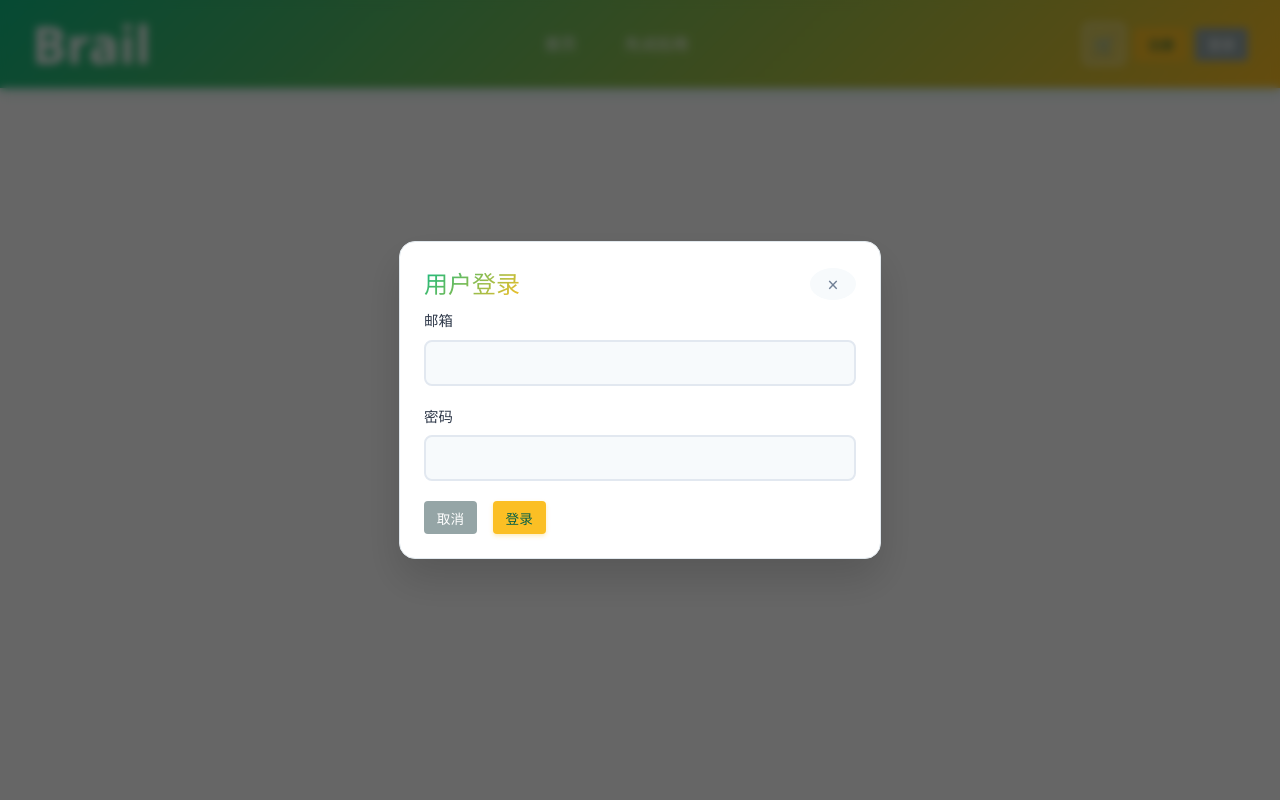
Scenario: Header.vue 注册功能单元测试 › 登录功能测试 › 登录时应该显示加载状态
Type "test@example.com" into the field with id "loginEmail". click: (640, 363)
box: 424,340 -> 856,386
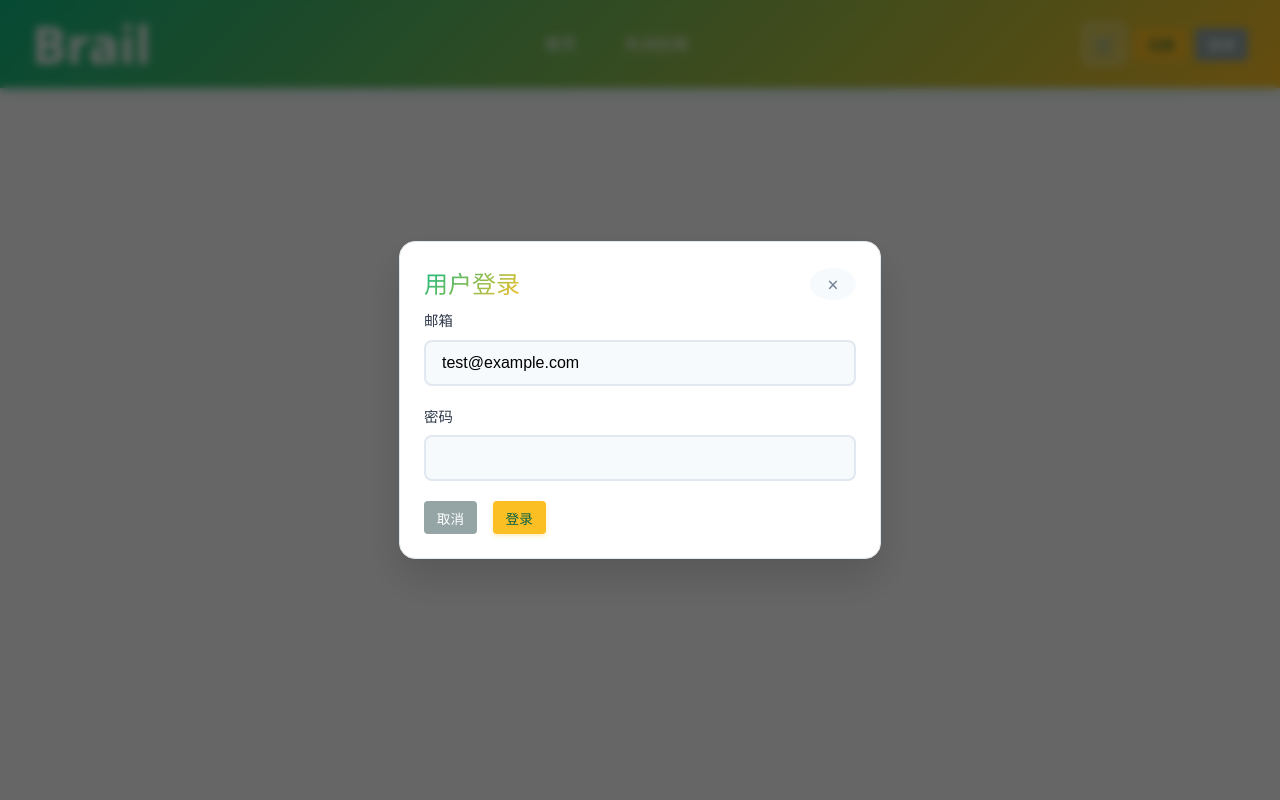
Type "password123" into the password field with id "loginPassword". click: (640, 458)
box: 424,435 -> 856,481
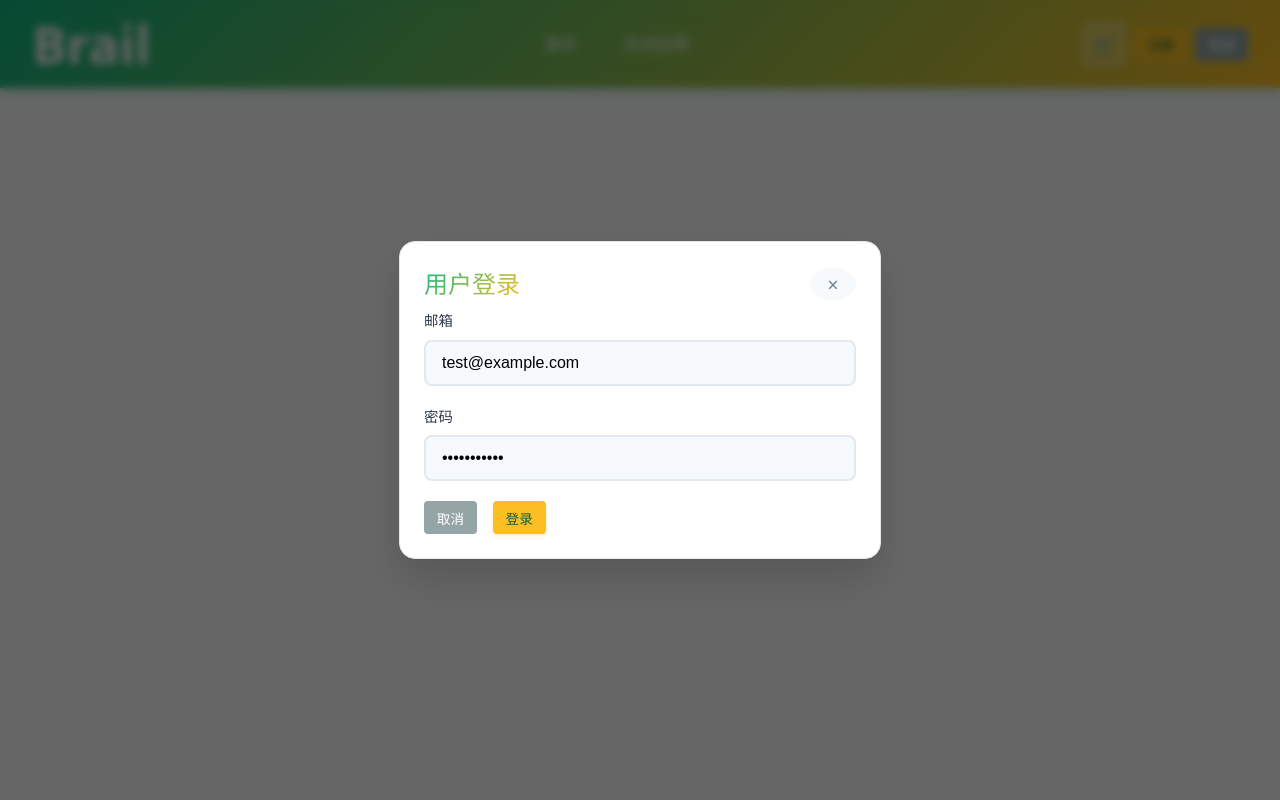
Submit the form with class "login-form", box 400,310 -> 880,558
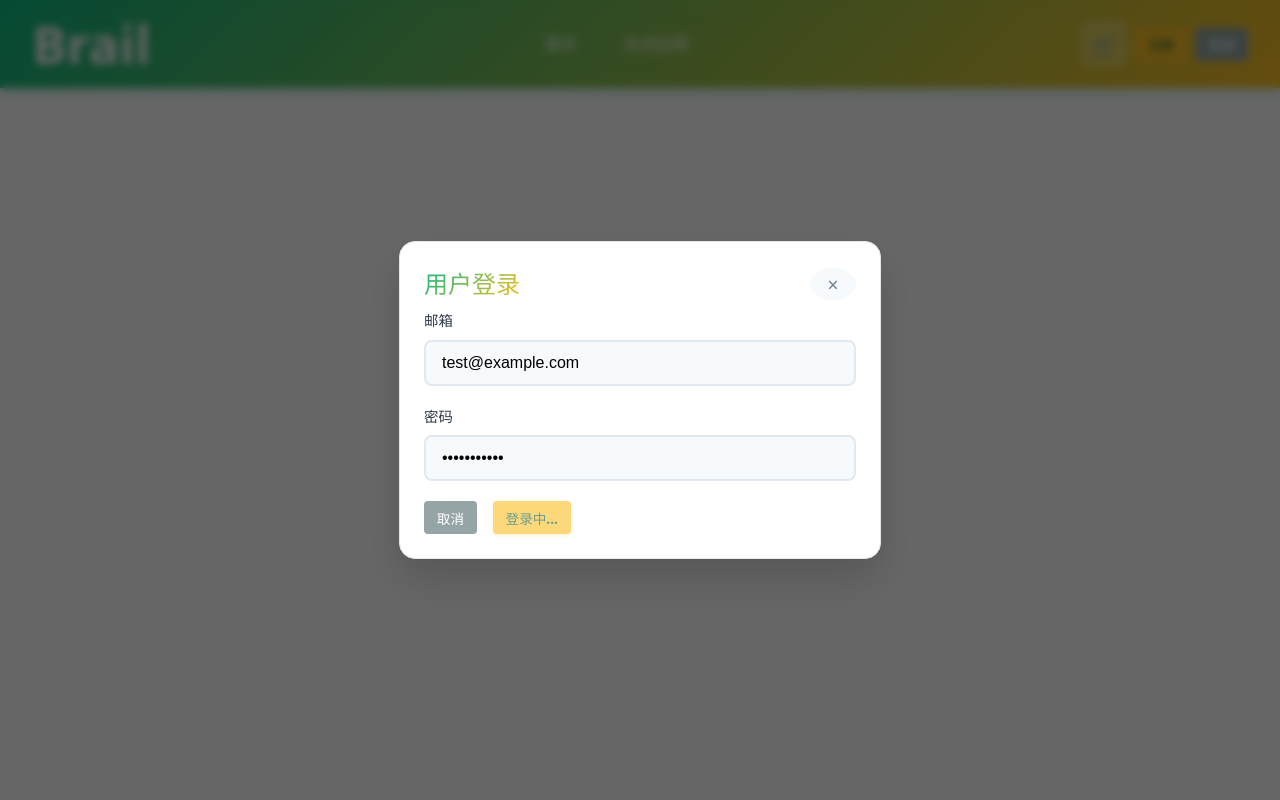
Expected: the submit button reads "登录中...", 493,501 -> 571,534
